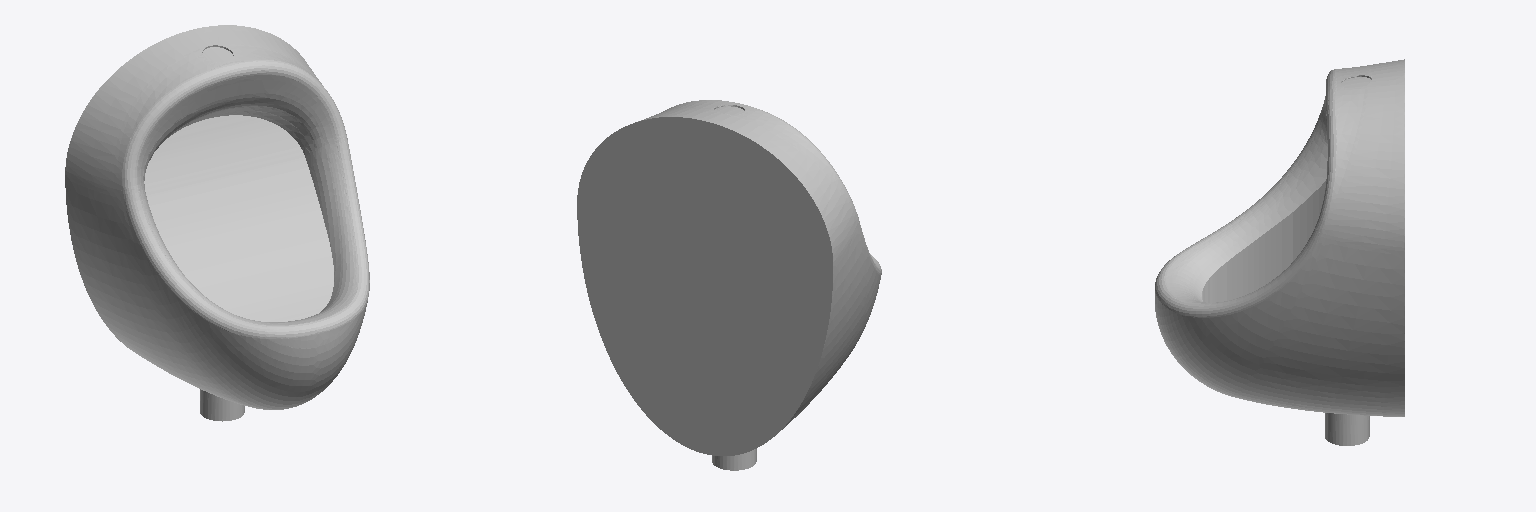
Rendered from urinal.obj.
3 views of the same model, side by side, from view 1: azimuth 30°, elevation 25°; view 2: azimuth 150°, elevation 25°; view 3: azimuth 270°, elevation 25° (orthographic).
Visible parts, largest first — view 1: CERSANIT_pisuar_P_101 CERAMIKA_CERSANIT; view 2: CERSANIT_pisuar_P_101 CERAMIKA_CERSANIT; view 3: CERSANIT_pisuar_P_101 CERAMIKA_CERSANIT.
Boxes of the visible parts, x1=… form: CERSANIT_pisuar_P_101 CERAMIKA_CERSANIT: x1=65, y1=25, x2=369, y2=421; CERSANIT_pisuar_P_101 CERAMIKA_CERSANIT: x1=577, y1=100, x2=881, y2=470; CERSANIT_pisuar_P_101 CERAMIKA_CERSANIT: x1=1155, y1=59, x2=1404, y2=445.
Bounding box in the file's own units: 330 × 445 × 280.